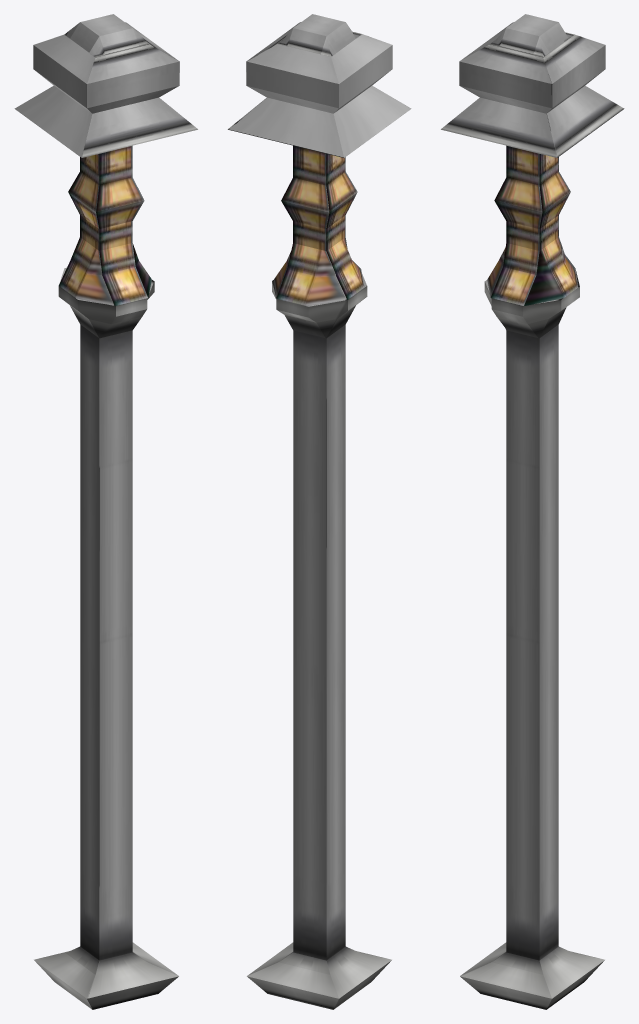
File: street_lamp_01.fbx
3 renders of one model, left to right at view 1: azimuth 30°, elevation 25°; view 2: azimuth 150°, elevation 25°; view 3: azimuth 330°, elevation 25°, orthographic.
Visible parts, largest first — view 1: Cube, Cube.002, Cube.001; view 2: Cube, Cube.002, Cube.001; view 3: Cube, Cube.002, Cube.001.
Part boxes in pixels (<box>): Cube: <box>34,267,178,1009</box>; Cube.002: <box>14,14,197,157</box>; Cube.001: <box>58,145,151,305</box>; Cube: <box>247,263,391,1009</box>; Cube.002: <box>228,14,411,157</box>; Cube.001: <box>274,145,364,305</box>; Cube: <box>460,270,604,1009</box>; Cube.002: <box>441,14,624,157</box>; Cube.001: <box>487,145,577,305</box>.
Bounding box in the file's own units: 69.97 × 551 × 69.97.
3 materials, 3 textured.
